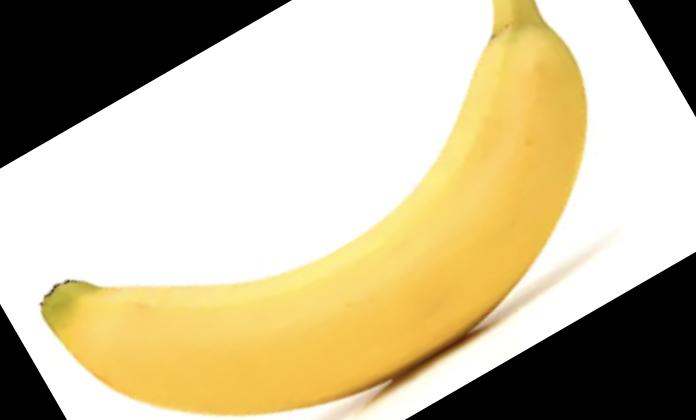Banana Ripe: (7, 0, 696, 420)
